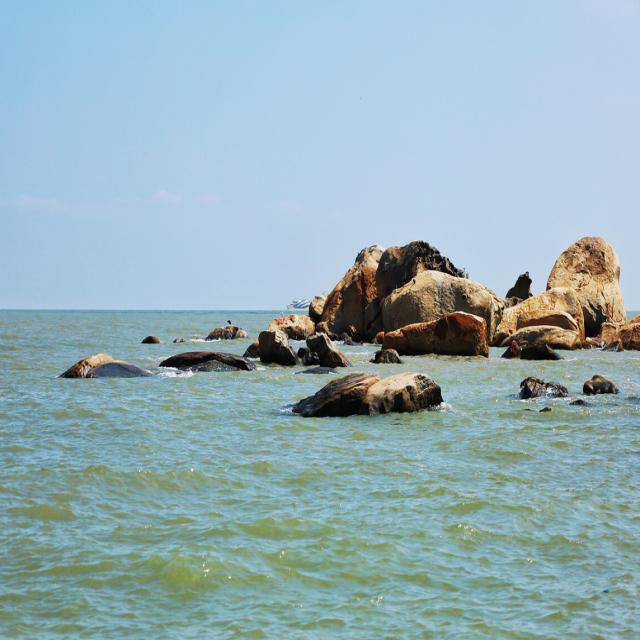reef: (310, 216, 638, 358)
